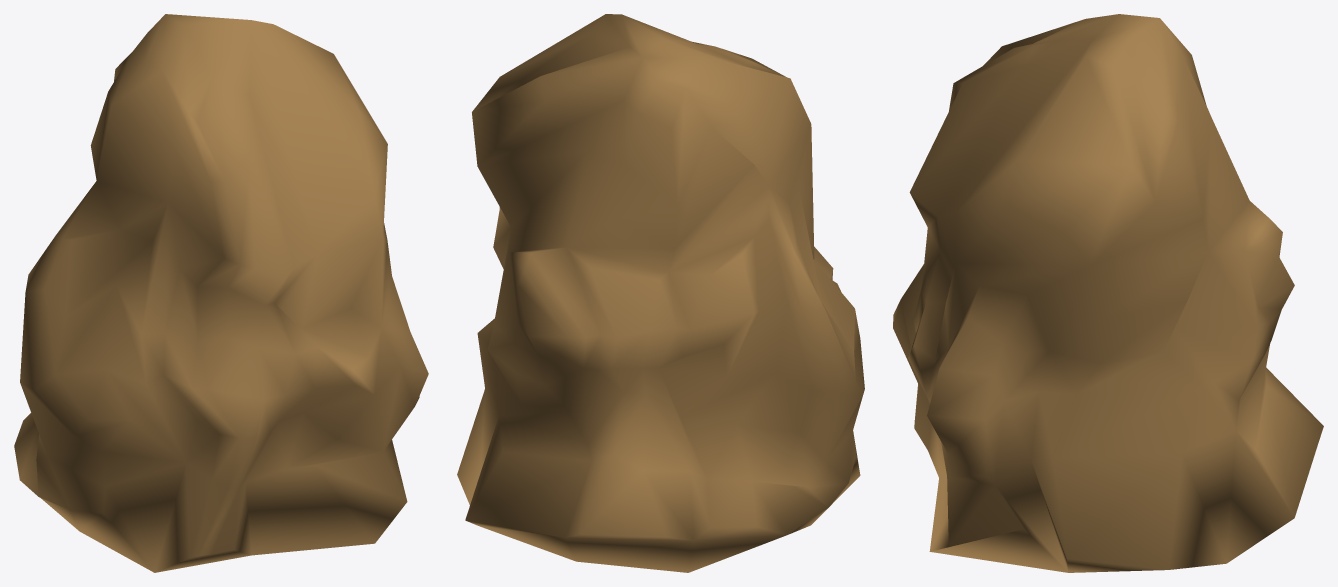
Rendered from hill5.fbx.
The picture shows the model from 3 angles, left to right: view 1: azimuth 30°, elevation 25°; view 2: azimuth 150°, elevation 25°; view 3: azimuth 270°, elevation 25°; orthographic projection. The views are drawn at different scales.
Visible parts, largest first — view 1: pCube5; view 2: pCube5; view 3: pCube5.
Part boxes in pixels (<box>): pCube5: <box>14,14,428,572</box>; pCube5: <box>457,14,864,572</box>; pCube5: <box>893,14,1323,572</box>.
Size of the model in its own units: 28.94 by 37.68 by 30.04.
